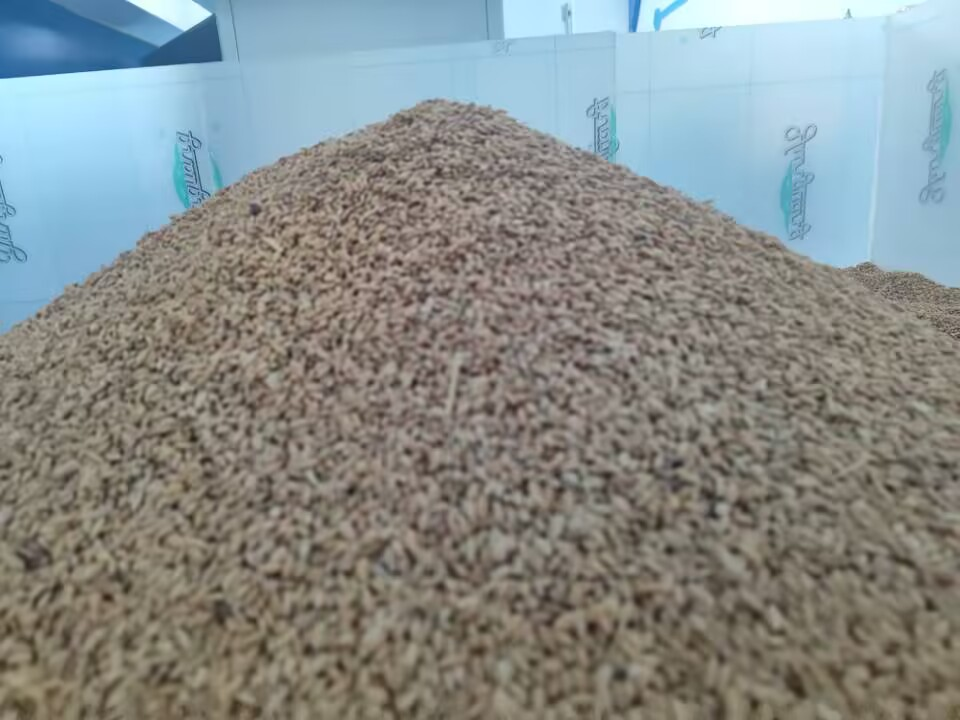Grain: (8, 90, 956, 695)
